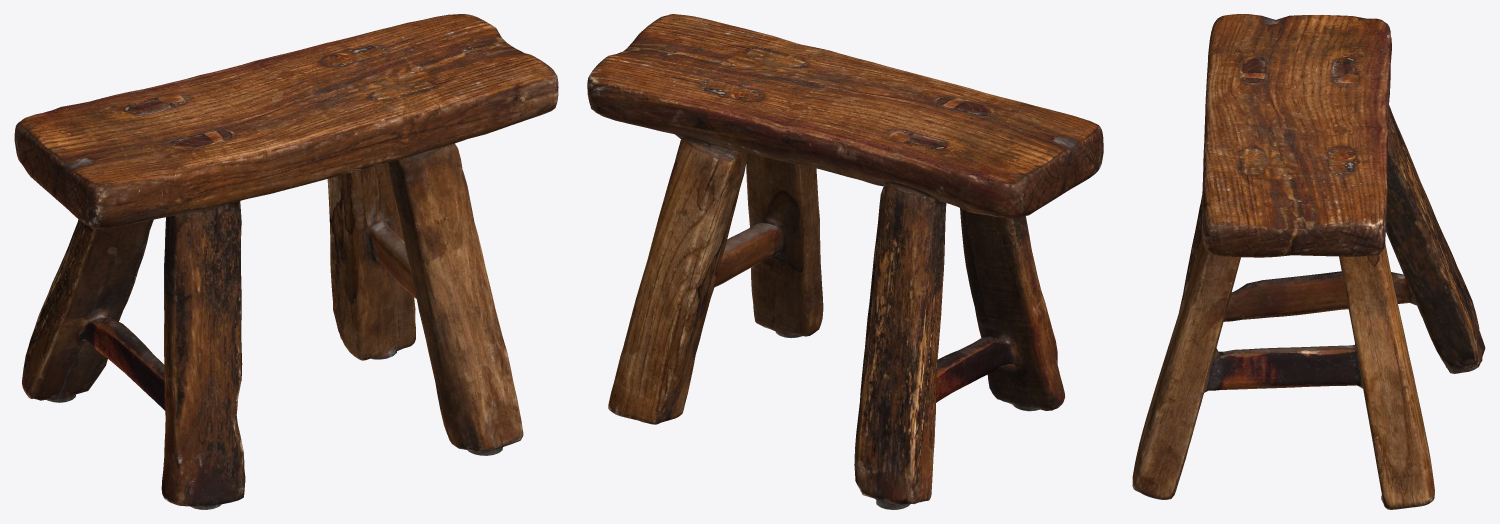
File: wooden_stool_02.glb
3 views of the same model, side by side, from view 1: azimuth 30°, elevation 25°; view 2: azimuth 150°, elevation 25°; view 3: azimuth 270°, elevation 25° (orthographic). The views are drawn at different scales.
Parts seen in each view (by area): view 1: wooden_stool_02; view 2: wooden_stool_02; view 3: wooden_stool_02.
Boxes of the visible parts, left/top/right/bottom form: wooden_stool_02: left=14, top=14, right=558, bottom=509; wooden_stool_02: left=587, top=14, right=1103, bottom=509; wooden_stool_02: left=1132, top=14, right=1485, bottom=509.
Bounding box in the file's own units: 0.2652 × 0.1819 × 0.1831.
1 material, 1 textured.
